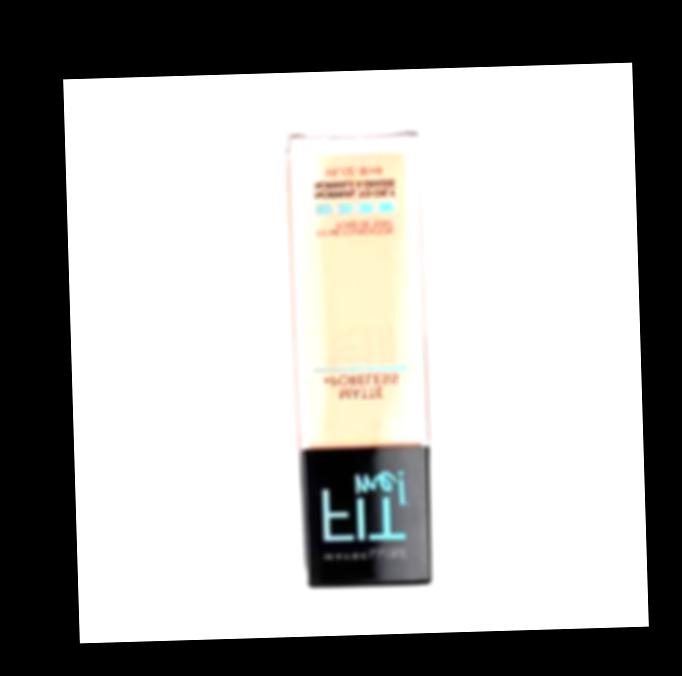cosmetic: (292, 121, 434, 589)
